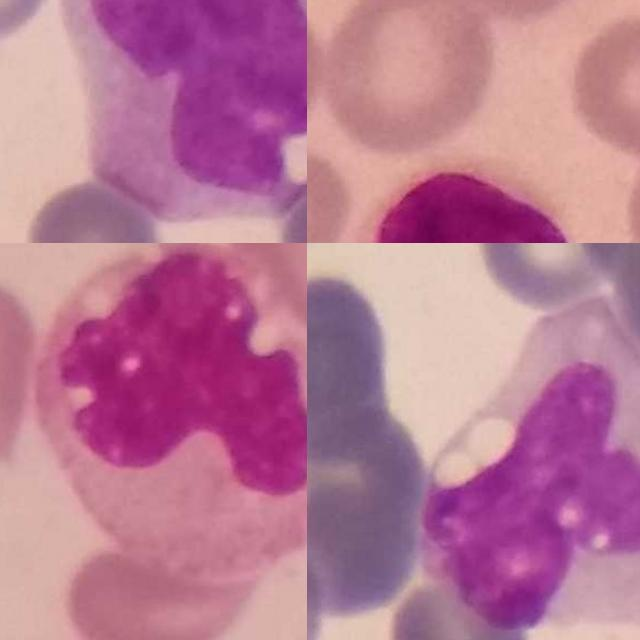Lymphocyte: (348, 154, 572, 243)
Monocyte: (38, 243, 307, 579), (415, 293, 640, 631), (57, 0, 307, 221)
